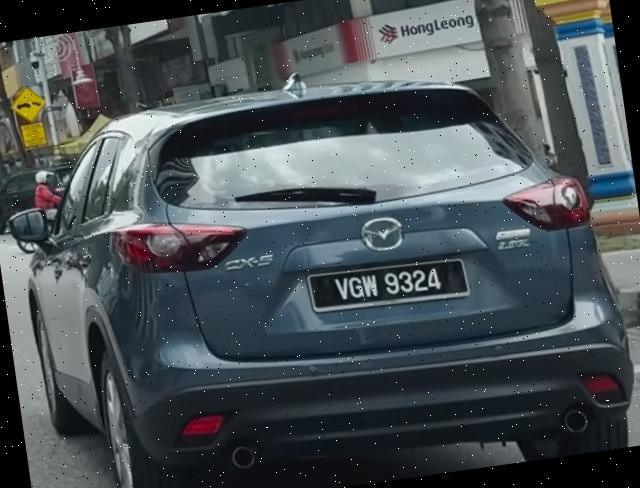License_Plate: (306, 252, 472, 320)
car: (1, 33, 640, 488)
